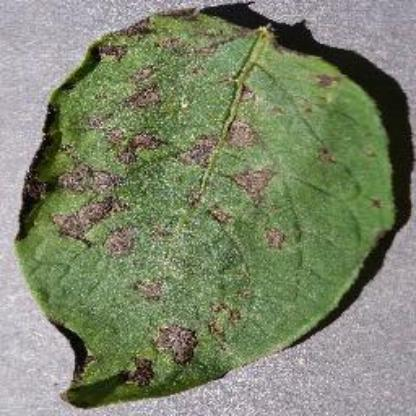Early-Blight: (15, 5, 407, 411)
